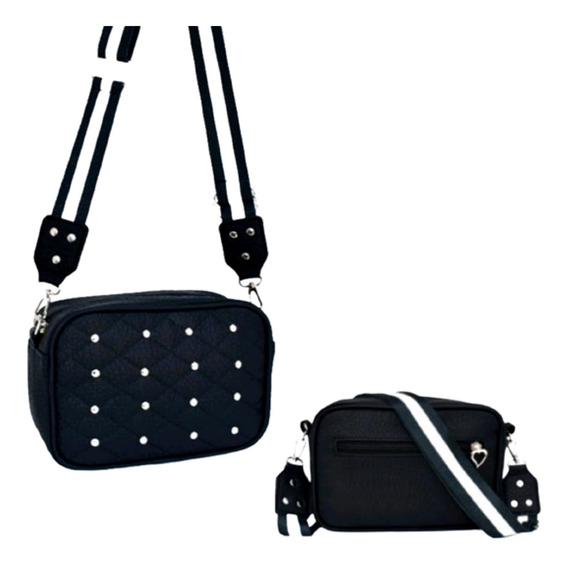cartera: (23, 24, 275, 474), (272, 388, 545, 541)
